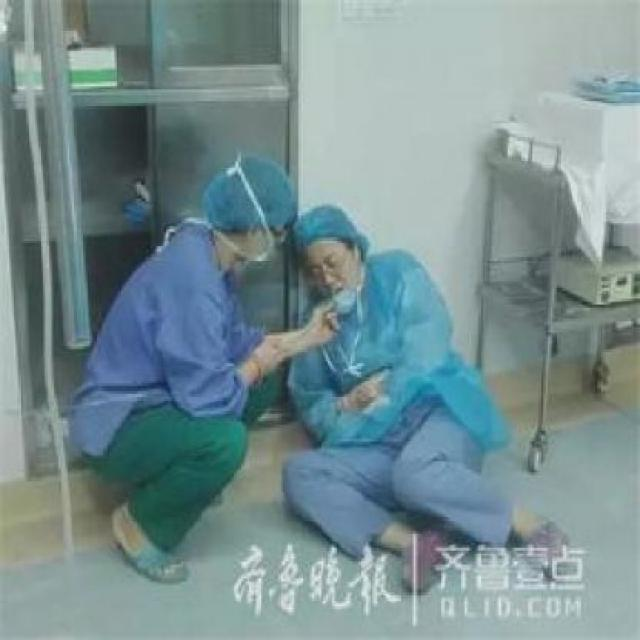fall: (258, 182, 576, 589)
